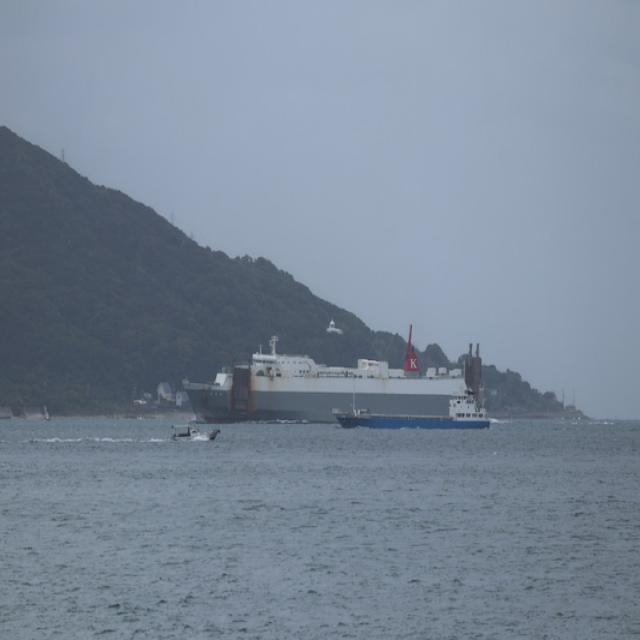passenger ship: (205, 322, 481, 412), (329, 384, 493, 423)
